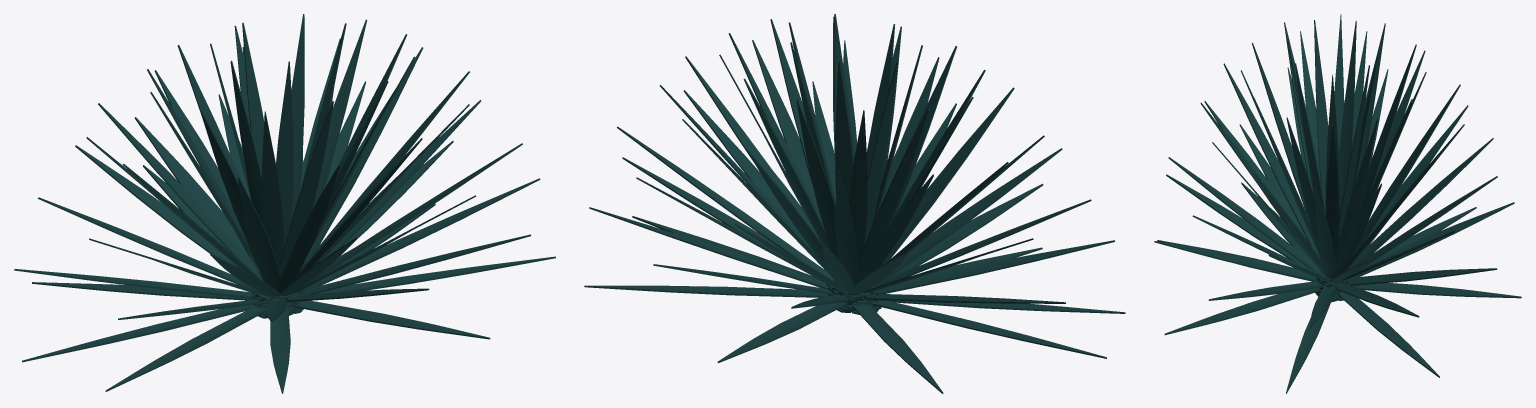
The model's file is Agave.FBX.
The picture shows the model from 3 angles, left to right: view 1: azimuth 30°, elevation 25°; view 2: azimuth 150°, elevation 25°; view 3: azimuth 270°, elevation 25°; orthographic projection. The views are drawn at different scales.
Visible parts, largest first — view 1: Agave; view 2: Agave; view 3: Agave.
Part boxes in pixels (x1,y1,x2,y2): Agave: [14, 14, 555, 393]; Agave: [584, 14, 1125, 393]; Agave: [1154, 14, 1521, 393].
Bounding box in the file's own units: 112 × 57.34 × 77.5.
